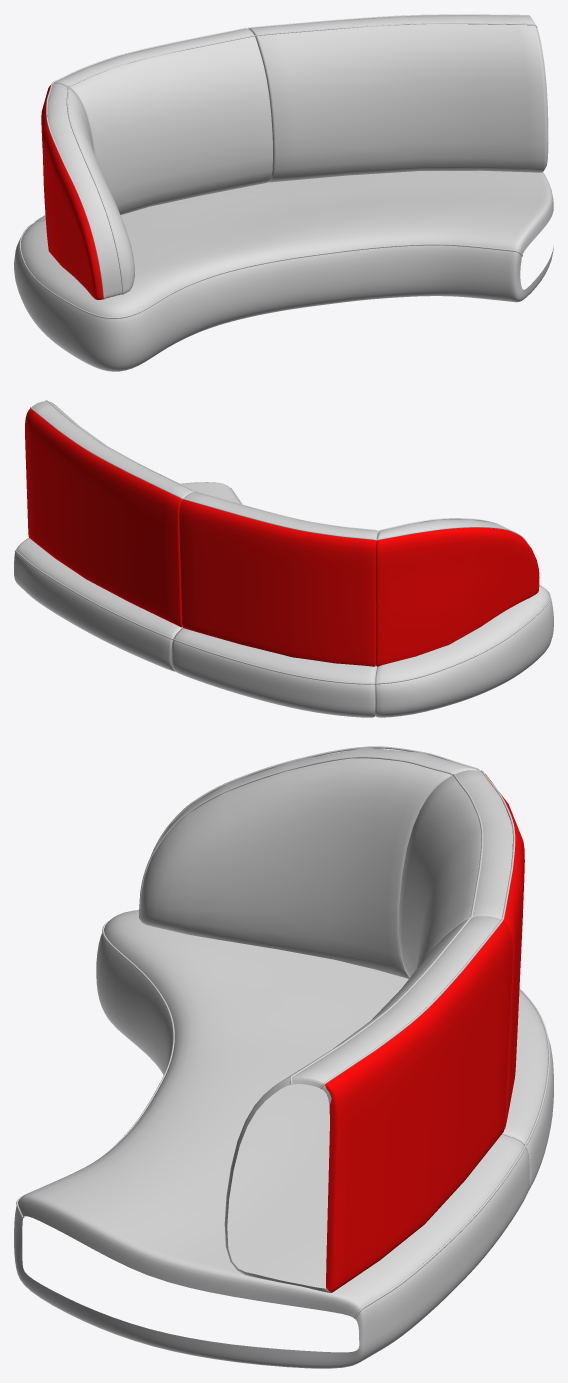
File: levante_s_male.gltf
3 renders of one model, top to bottom at view 1: azimuth 30°, elevation 25°; view 2: azimuth 150°, elevation 25°; view 3: azimuth 270°, elevation 25°, orthographic. The views are drawn at different scales.
Parts seen in each view (by area): view 1: levante_s_male; view 2: levante_s_male; view 3: levante_s_male.
Boxes of the visible parts, <box> form: levante_s_male: <box>14,14,553,371</box>; levante_s_male: <box>14,400,553,717</box>; levante_s_male: <box>14,746,553,1368</box>.
Size of the model in its own units: 1.91 by 0.6903 by 1.15.
